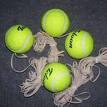tennis ball: (41, 62, 73, 93), (3, 23, 35, 54), (40, 8, 70, 38), (64, 30, 95, 59)
